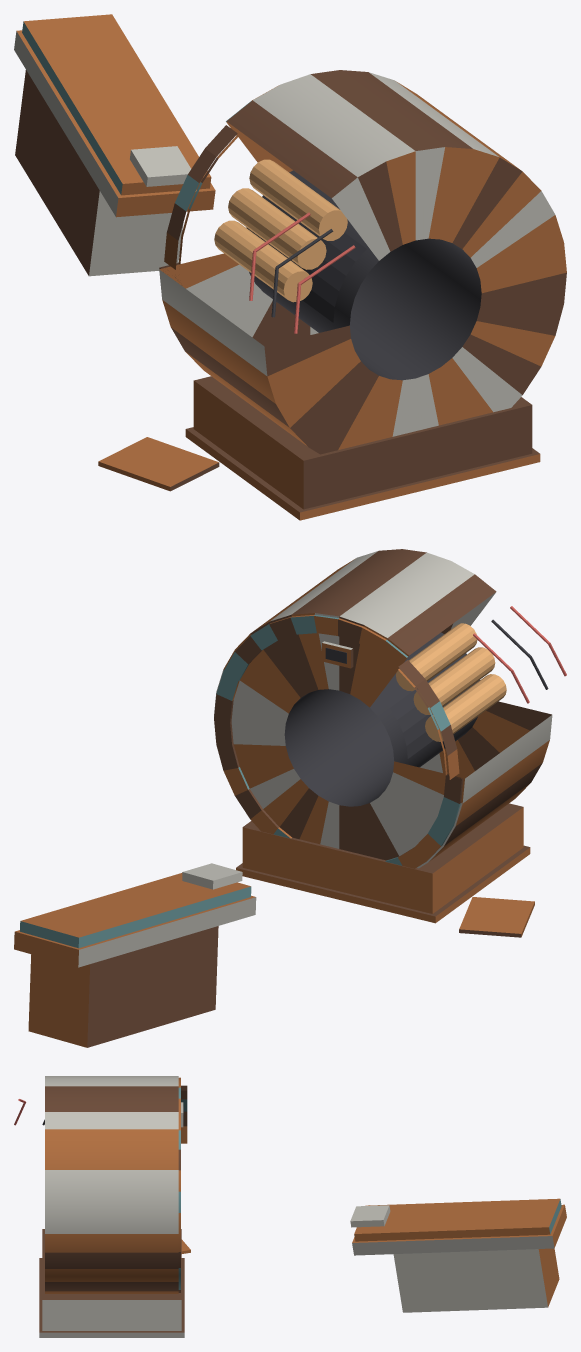
The model's file is mriMachine_v2.fbx.
3 renders of one model, top to bottom at view 1: azimuth 30°, elevation 25°; view 2: azimuth 150°, elevation 25°; view 3: azimuth 270°, elevation 25°, orthographic. The views are drawn at different scales.
Visible parts, largest first — view 1: 02_MRIScanner_Damaged_Fallen_Panel_Scrap, 02_MRIScanner_Damaged_Bed_Base, 02_MRIScanner_Damaged_Bed_Cushion; view 2: 02_MRIScanner_Damaged_Fallen_Panel_Scrap, 02_MRIScanner_Damaged_Bed_Base, 02_MRIScanner_Damaged_Bed_Cushion; view 3: 02_MRIScanner_Damaged_Fallen_Panel_Scrap, 02_MRIScanner_Damaged_Bed_Base, 02_MRIScanner_Damaged_Bed_Cushion.
Boxes of the visible parts, x1,y1,x2,y2 form: 02_MRIScanner_Damaged_Fallen_Panel_Scrap: [98, 70, 566, 520]; 02_MRIScanner_Damaged_Bed_Base: [14, 30, 215, 276]; 02_MRIScanner_Damaged_Bed_Cushion: [22, 14, 211, 195]; 02_MRIScanner_Damaged_Fallen_Panel_Scrap: [214, 549, 566, 937]; 02_MRIScanner_Damaged_Bed_Base: [14, 895, 256, 1047]; 02_MRIScanner_Damaged_Bed_Cushion: [20, 863, 251, 948]; 02_MRIScanner_Damaged_Fallen_Panel_Scrap: [14, 1076, 190, 1337]; 02_MRIScanner_Damaged_Bed_Base: [352, 1204, 566, 1312]; 02_MRIScanner_Damaged_Bed_Cushion: [350, 1198, 561, 1241].
Bounding box in the file's own units: 189 × 166 × 389.
